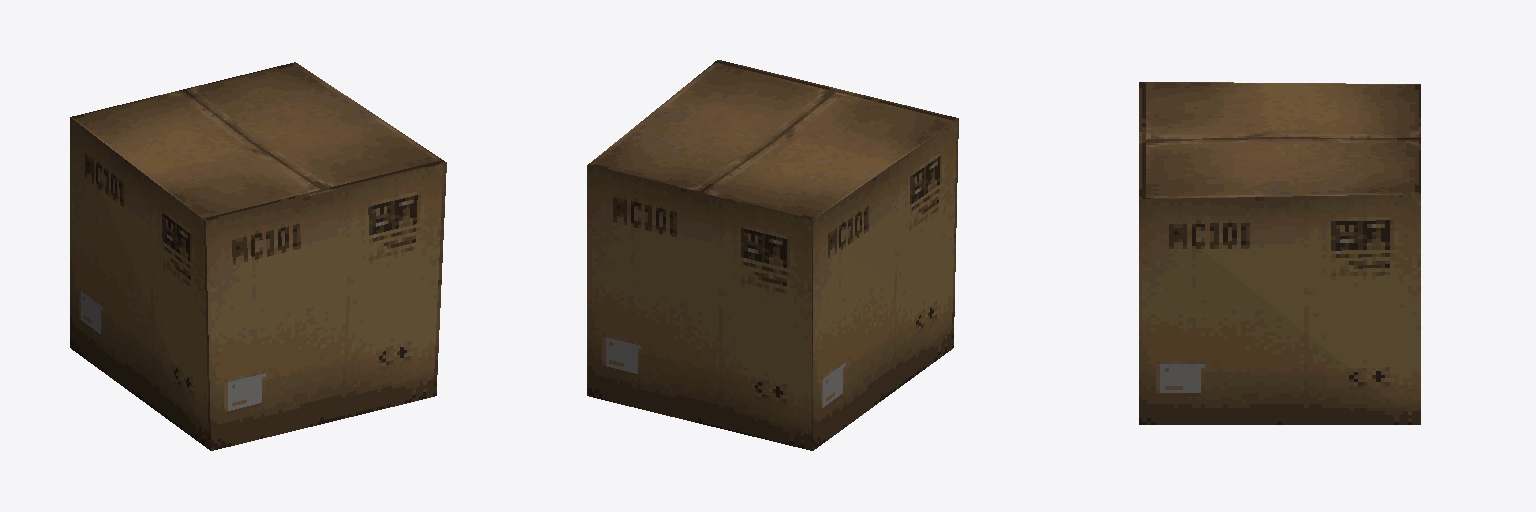
3 renders of one model, left to right at view 1: azimuth 30°, elevation 25°; view 2: azimuth 150°, elevation 25°; view 3: azimuth 270°, elevation 25°, orthographic.
Parts seen in each view (by area): view 1: Cardboard_Box_cardboxes_128; view 2: Cardboard_Box_cardboxes_128; view 3: Cardboard_Box_cardboxes_128.
Part boxes in pixels (x1,y1,x2,y2): Cardboard_Box_cardboxes_128: (70,62,446,450); Cardboard_Box_cardboxes_128: (587,60,958,450); Cardboard_Box_cardboxes_128: (1139,82,1420,424).
Bounding box in the file's own units: 0.9952 × 0.9117 × 1.01.
1 materials, 1 textured.